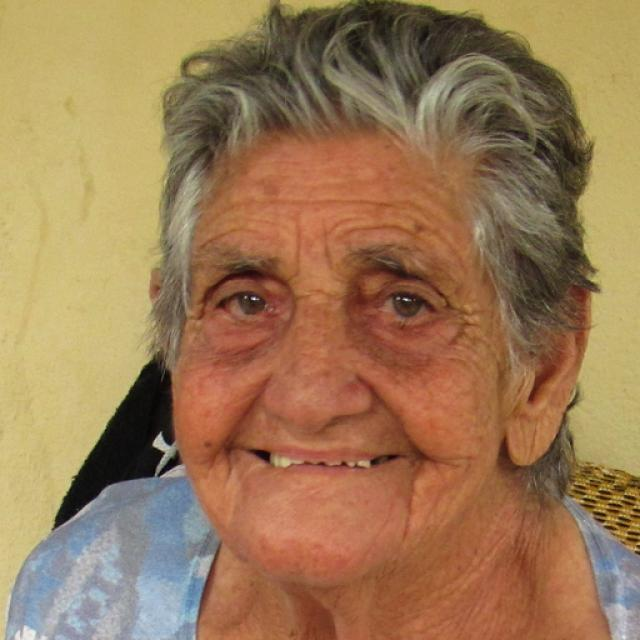Pigmentation: (344, 315, 437, 388), (252, 166, 293, 209)
